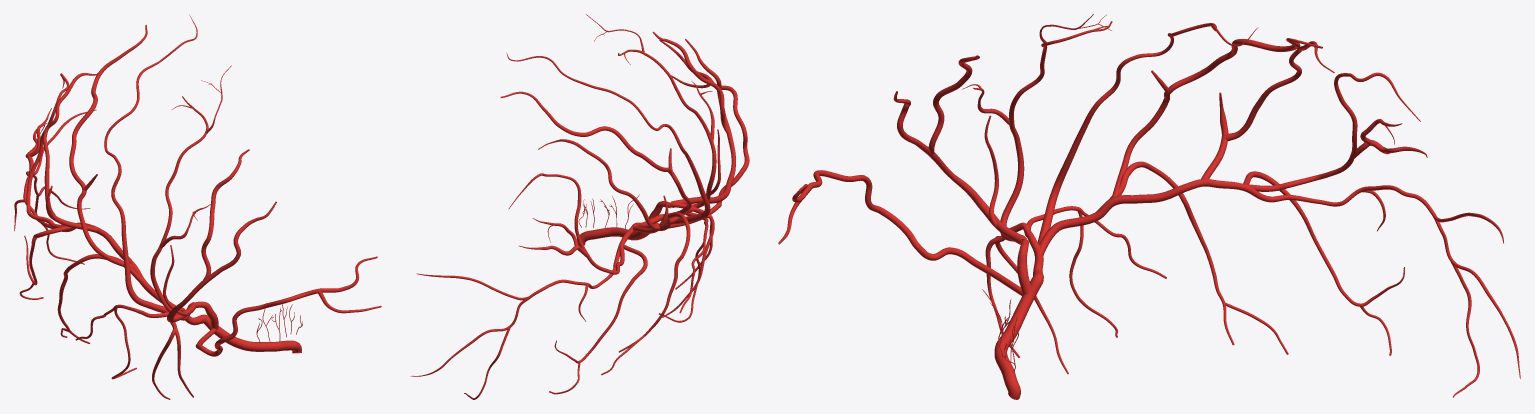
The model's file is circulatorio-middle-cerebral-artery-m1-segment-r.glb.
The picture shows the model from 3 angles, left to right: view 1: azimuth 30°, elevation 25°; view 2: azimuth 150°, elevation 25°; view 3: azimuth 270°, elevation 25°; orthographic projection. The views are drawn at different scales.
Parts seen in each view (by area): view 1: Prefrontal artery.r, Artery of precentral sulcus.r, Lateral frontobasal artery.r, Artery of central sulcus.r, Postcentral arterial branch.r, Anterior temporal branch.r, Posterior parietal artery.r, Parietal branches of middle cerebral artery.r, Middle cerebral artery (M1-segment).r, Temporo-occipital branch.r, Temporal branches of middle cerebral artery.r, Middle cerebral artery (M3-segment).r (+2 smaller); view 2: Prefrontal artery.r, Artery of precentral sulcus.r, Posterior parietal artery.r, Temporo-occipital branch.r, Postcentral arterial branch.r, Artery of central sulcus.r, Anterior temporal branch.r, Lateral frontobasal artery.r, Parietal branches of middle cerebral artery.r, Temporal branches of middle cerebral artery.r, Posterior temporal branch.r, Middle cerebral artery (M1-segment).r (+1 smaller); view 3: Middle cerebral artery (M3-segment).r, Artery of precentral sulcus.r, Lateral frontobasal artery.r, Anterior temporal branch.r, Prefrontal artery.r, Posterior parietal artery.r, Temporo-occipital branch.r, Artery of central sulcus.r, Postcentral arterial branch.r, Parietal branches of middle cerebral artery.r, Temporal branches of middle cerebral artery.r, Middle cerebral artery (M1-segment).r (+2 smaller).
Boxes of the visible parts, x1,y1,x2,y2 form: Prefrontal artery.r: (167, 149, 276, 322); Artery of precentral sulcus.r: (150, 65, 231, 320); Lateral frontobasal artery.r: (195, 256, 381, 356); Artery of central sulcus.r: (104, 14, 197, 312); Postcentral arterial branch.r: (69, 25, 147, 267); Anterior temporal branch.r: (75, 304, 193, 399); Posterior parietal artery.r: (25, 73, 78, 228); Parietal branches of middle cerebral artery.r: (43, 73, 97, 232); Middle cerebral artery (M1-segment).r: (214, 326, 301, 353); Temporo-occipital branch.r: (23, 109, 96, 264); Temporal branches of middle cerebral artery.r: (57, 254, 142, 343); Middle cerebral artery (M3-segment).r: (34, 214, 175, 306); Prefrontal artery.r: (652, 31, 735, 207); Artery of precentral sulcus.r: (586, 14, 720, 208); Posterior parietal artery.r: (508, 173, 624, 274); Temporo-occipital branch.r: (410, 273, 593, 399); Postcentral arterial branch.r: (500, 91, 691, 217); Artery of central sulcus.r: (506, 53, 710, 224); Anterior temporal branch.r: (658, 206, 714, 322); Lateral frontobasal artery.r: (659, 40, 749, 228); Parietal branches of middle cerebral artery.r: (538, 139, 668, 233); Temporal branches of middle cerebral artery.r: (601, 212, 690, 375); Posterior temporal branch.r: (549, 244, 647, 394); Middle cerebral artery (M1-segment).r: (577, 227, 649, 246); Middle cerebral artery (M3-segment).r: (1039, 179, 1340, 255); Artery of precentral sulcus.r: (962, 14, 1112, 242); Lateral frontobasal artery.r: (778, 170, 1022, 295); Anterior temporal branch.r: (985, 206, 1166, 374); Prefrontal artery.r: (893, 55, 1026, 244); Posterior parietal artery.r: (1244, 72, 1427, 191); Temporo-occipital branch.r: (1340, 185, 1520, 397); Artery of central sulcus.r: (1037, 23, 1258, 255); Postcentral arterial branch.r: (1111, 38, 1322, 197); Parietal branches of middle cerebral artery.r: (1201, 41, 1334, 179); Temporal branches of middle cerebral artery.r: (1096, 161, 1288, 354); Middle cerebral artery (M1-segment).r: (994, 294, 1033, 399).
Size of the model in its own units: 0.062 by 0.1046 by 0.1733.
